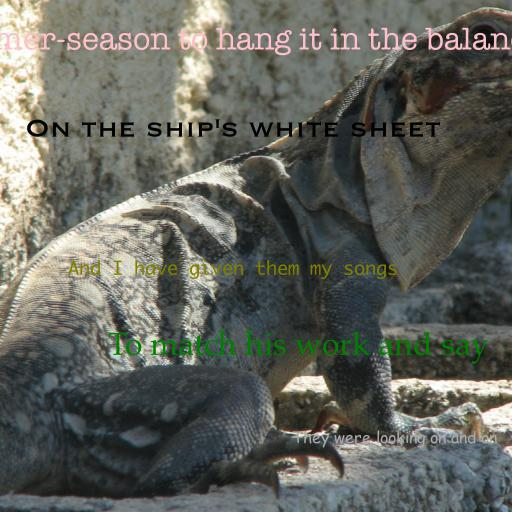American Typewriter: (0, 27, 512, 56)
Comic Sans MS: (291, 430, 497, 448)
Copperplate: (25, 119, 441, 137)
Monaco: (68, 259, 398, 280)
Palatino: (107, 330, 489, 364)
